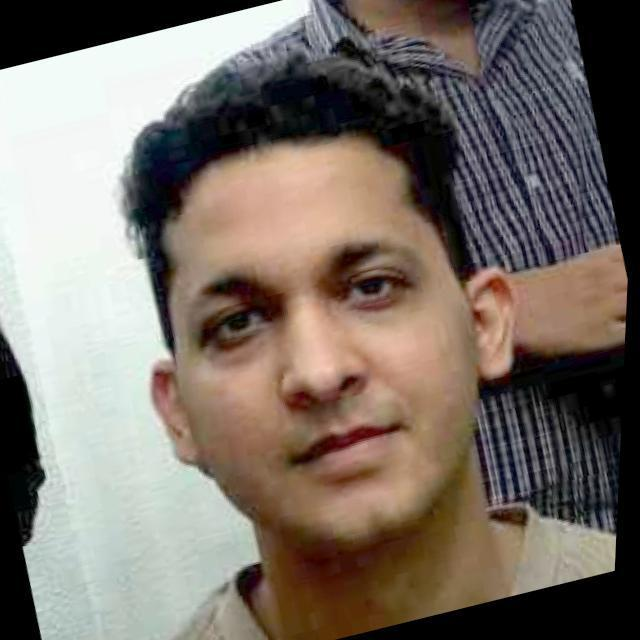puffy_eyes: (212, 338, 276, 365)
